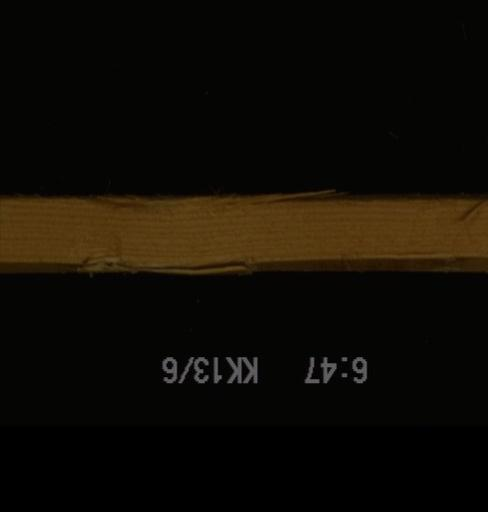wave: (0, 253, 486, 279), (1, 183, 483, 209)
